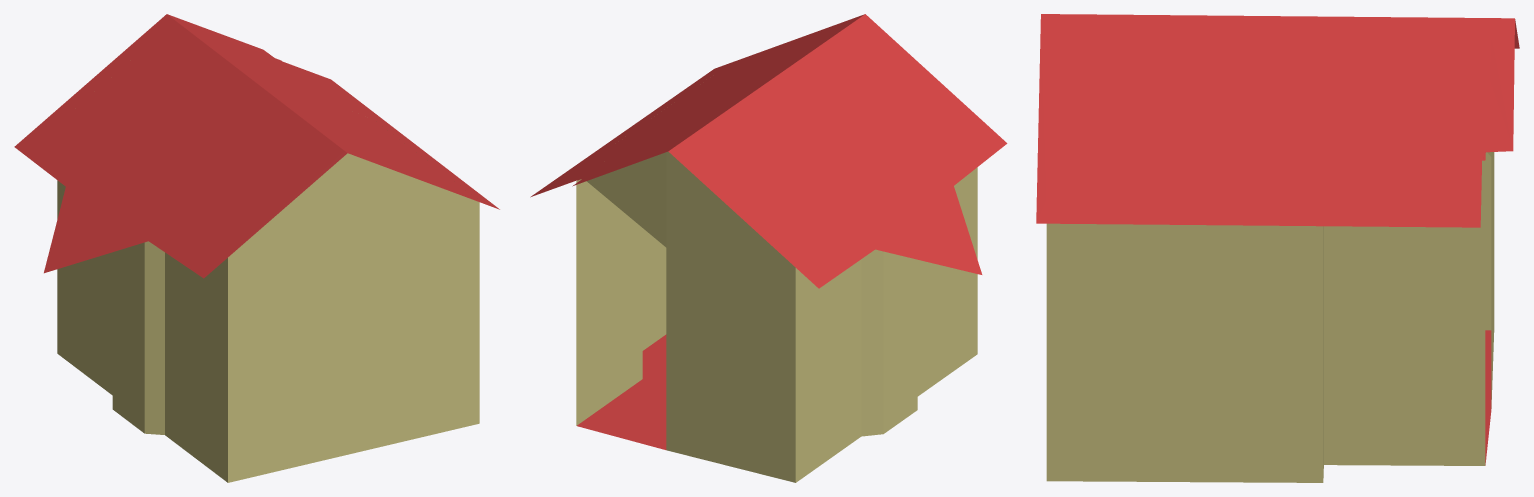
3 renders of one model, left to right at view 1: azimuth 30°, elevation 25°; view 2: azimuth 150°, elevation 25°; view 3: azimuth 270°, elevation 25°, orthographic. The views are drawn at different scales.
Bounding box in the file's own units: 13.26 × 11.97 × 10.51.
